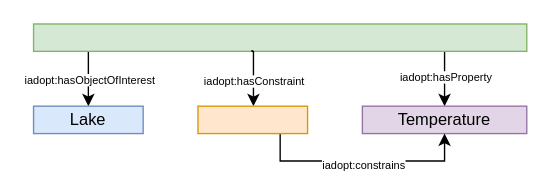
This 551x196 diagram has some shape labels left out. Here are the shapes that lost their labels. From the top down, the box of each, then its label:
(32, 23, 527, 51): Daily Average Temperature of Lake
(197, 105, 308, 134): Daily Average
